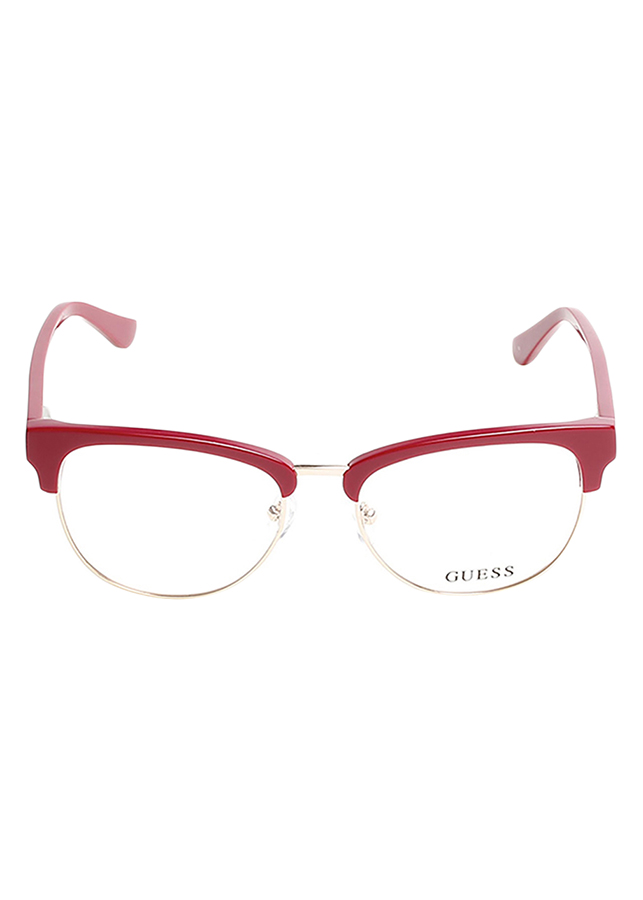Guess: (435, 564, 525, 585)
